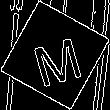M_N: (26, 24, 84, 86)
